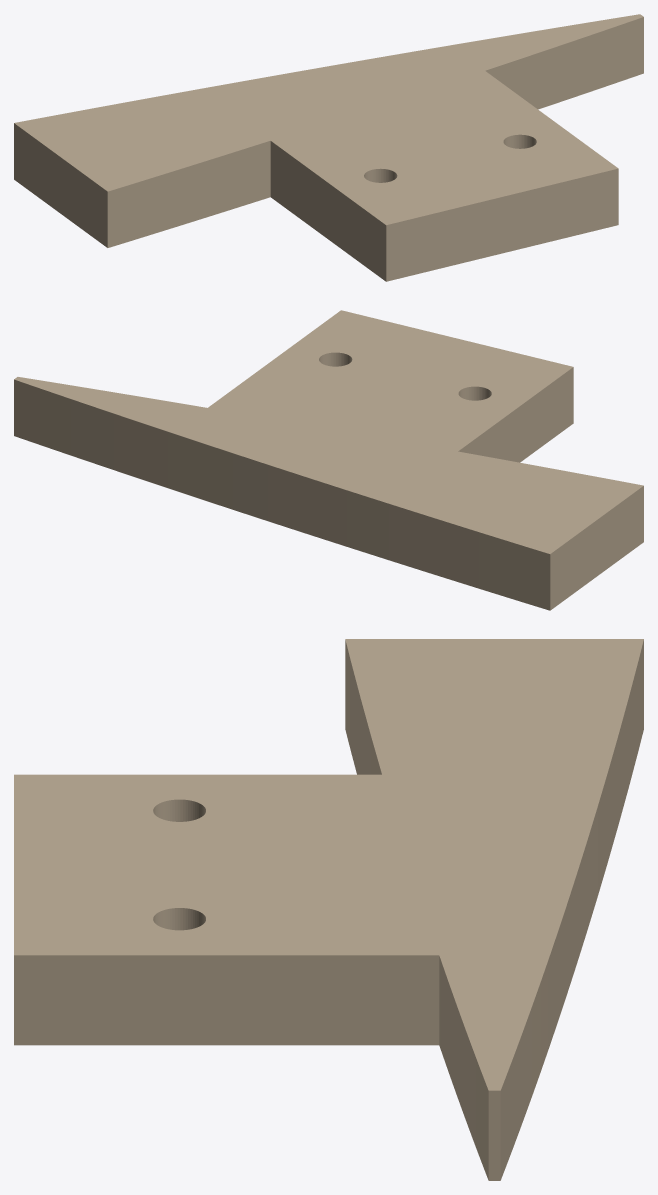
The model's file is T-HW-ELV.glb.
The picture shows the model from 3 angles, top to bottom: view 1: azimuth 30°, elevation 25°; view 2: azimuth 150°, elevation 25°; view 3: azimuth 270°, elevation 25°; orthographic projection. The views are drawn at different scales.
Visible parts, largest first — view 1: geometry_0; view 2: geometry_0; view 3: geometry_0.
Part boxes in pixels (x1,y1,x2,y2): geometry_0: (14,14,643,281); geometry_0: (14,310,643,610); geometry_0: (14,639,643,1180).
Size of the model in its own units: 129 by 12 by 76.06.
